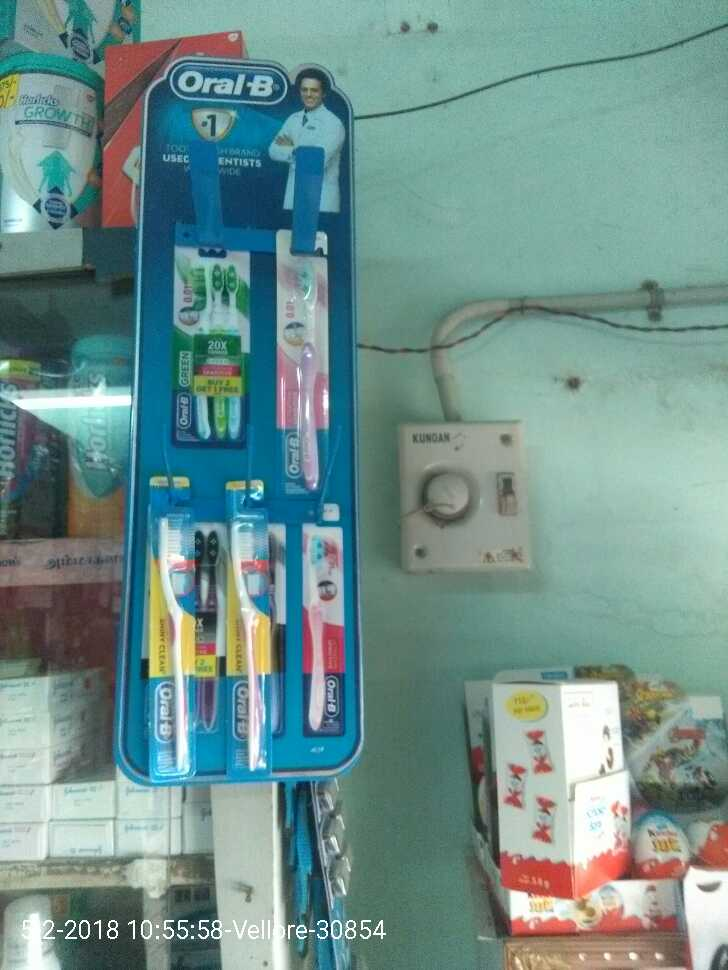oralb: (281, 247, 339, 503), (227, 521, 272, 768), (158, 514, 200, 776)
